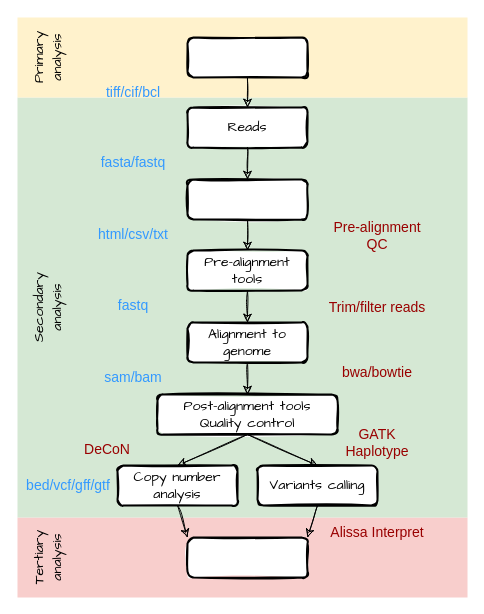
This 484x614 diagram has some shape labels left out. The centre of each missing label's shape, as x and y in pixels:
"Clinical decision" goes at pixel 247 557.
"Quality control" goes at pixel 247 199.
"Sequenziamento" goes at pixel 247 57.
